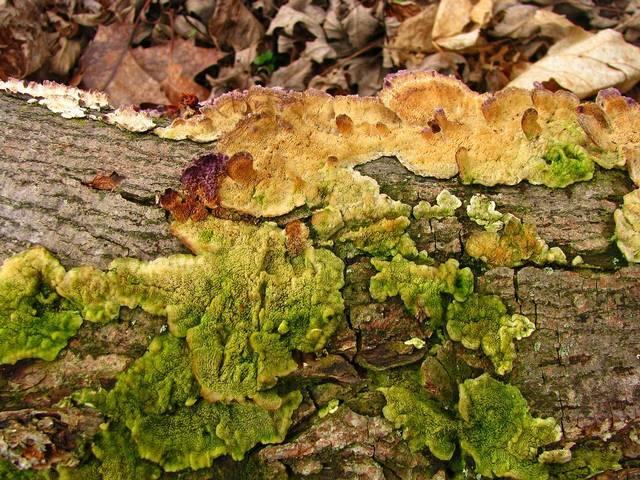Non-edible Mushroom: (4, 68, 637, 478)
